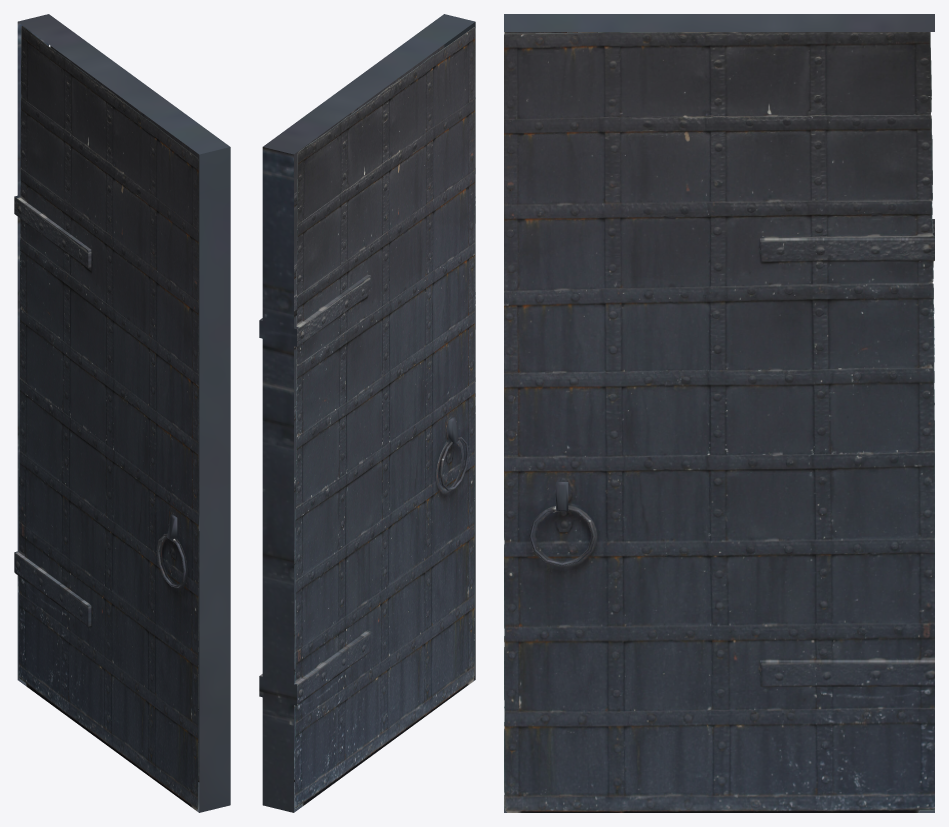
File: puerta_puzzles_v01.fbx
3 views of the same model, side by side, from view 1: azimuth 30°, elevation 25°; view 2: azimuth 150°, elevation 25°; view 3: azimuth 270°, elevation 25° (orthographic). The views are drawn at different scales.
Parts seen in each view (by area): view 1: puerta; view 2: puerta; view 3: puerta.
Part boxes in pixels (x1,y1,x2,y2): puerta: [14, 14, 230, 812]; puerta: [259, 14, 475, 812]; puerta: [504, 14, 934, 812].
Size of the model in its own units: 13.88 by 200 by 100.
